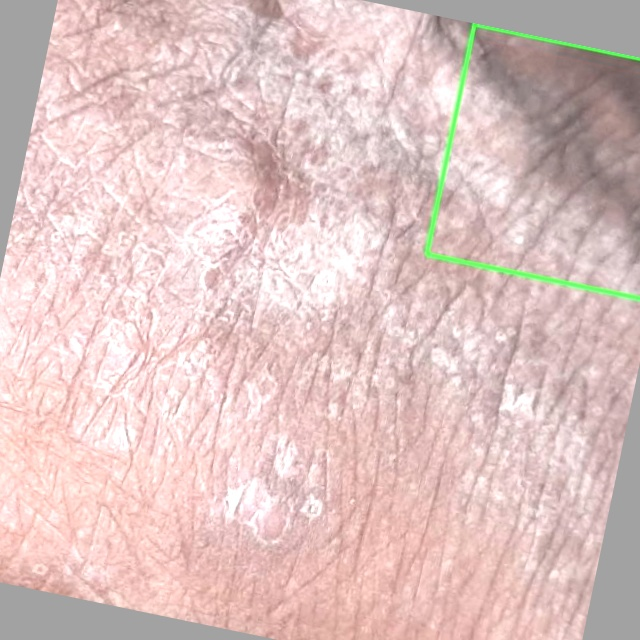Eczema: (425, 23, 639, 299)
